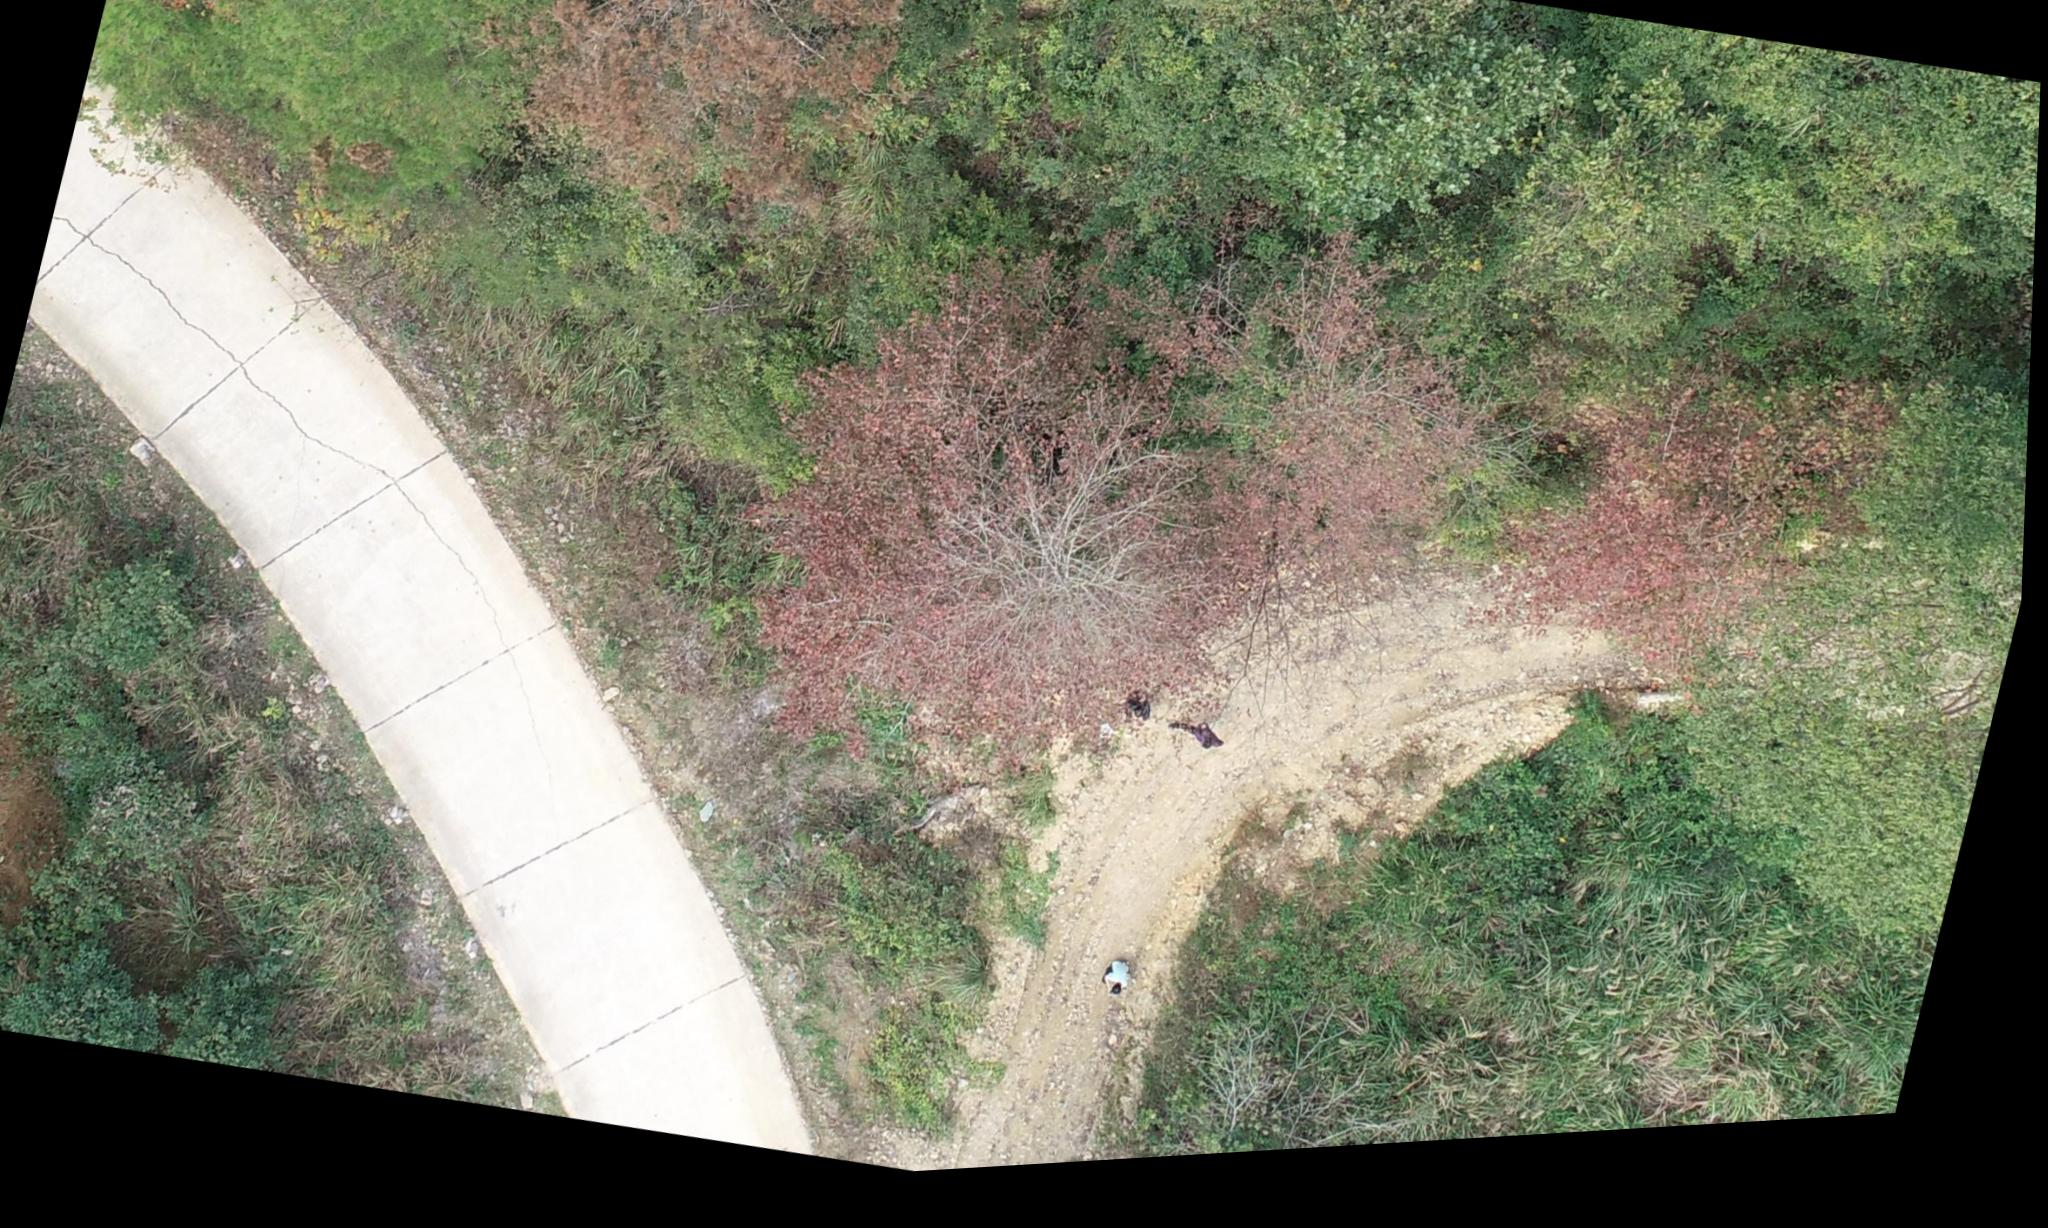heavy: (687, 202, 1365, 860), (1474, 303, 1905, 784), (468, 0, 947, 238)
